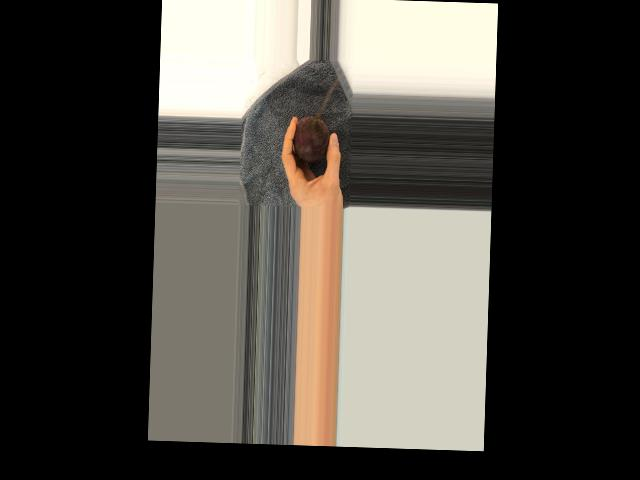beet: (293, 116, 330, 163)
